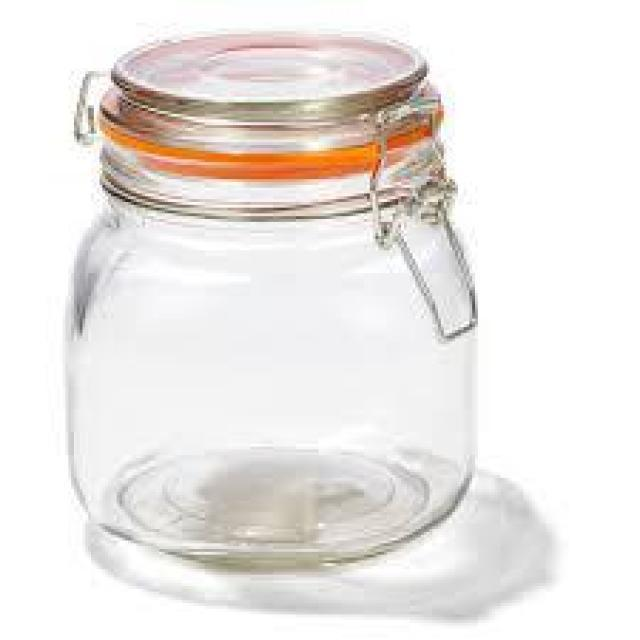Glass: (60, 28, 480, 576)
